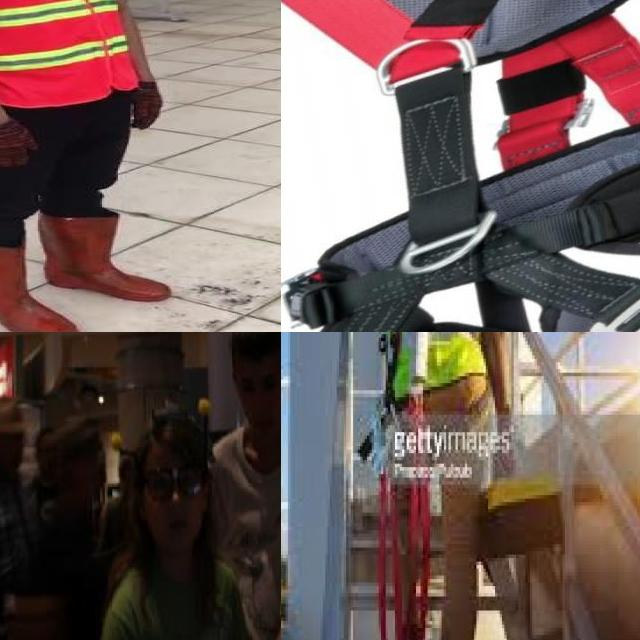Harness: (282, 0, 640, 332)
boots: (42, 214, 172, 305), (0, 237, 80, 332)
face_nomask: (144, 464, 207, 533), (239, 362, 281, 416)
glasses: (138, 471, 213, 506)
hand_glove: (0, 120, 39, 167), (134, 81, 166, 128)
head_nohelmet: (126, 418, 224, 479), (221, 332, 281, 376)
person: (0, 0, 190, 332), (96, 417, 251, 640), (202, 332, 281, 625)
vest: (0, 0, 132, 104)
